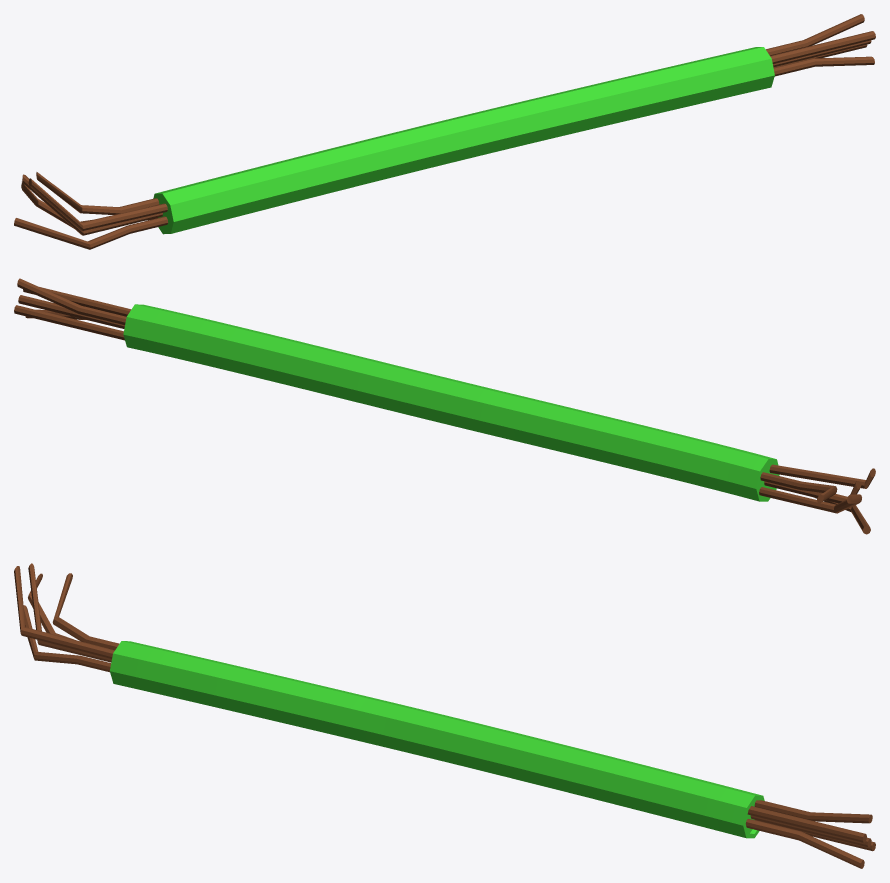
The model's file is samcable4.fbx.
The picture shows the model from 3 angles, top to bottom: view 1: azimuth 30°, elevation 25°; view 2: azimuth 150°, elevation 25°; view 3: azimuth 330°, elevation 25°; orthographic projection. The views are drawn at different scales.
Visible parts, largest first — view 1: GreenCable; view 2: GreenCable; view 3: GreenCable.
Boxes of the visible parts, x1,y1,x2,y2 form: GreenCable: (14, 14, 875, 249); GreenCable: (14, 278, 875, 534); GreenCable: (14, 563, 875, 868).
Bounding box in the file's own units: 22.43 × 1.86 × 2.4.
